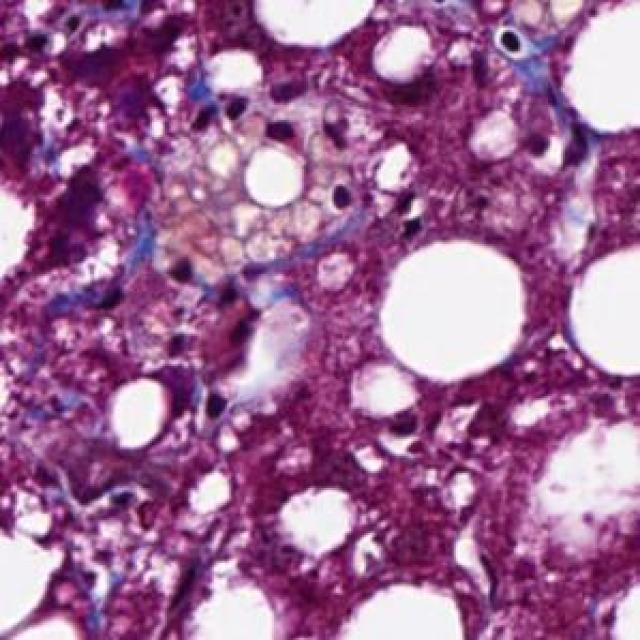inflammation: (150, 261, 257, 373), (180, 75, 312, 156), (514, 124, 597, 184), (375, 411, 441, 475)
